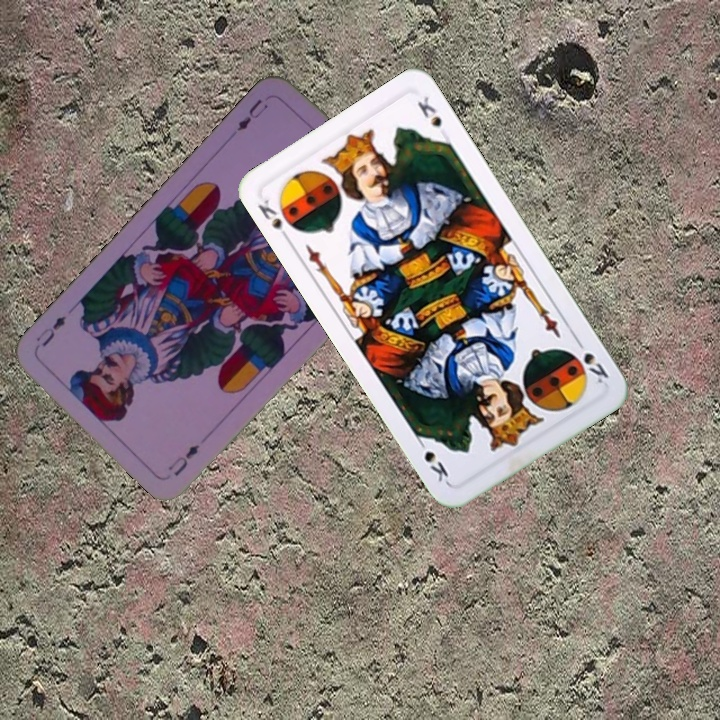EU: (232, 94, 271, 134), (164, 440, 203, 479)
SK: (571, 334, 612, 388), (254, 195, 294, 245)
